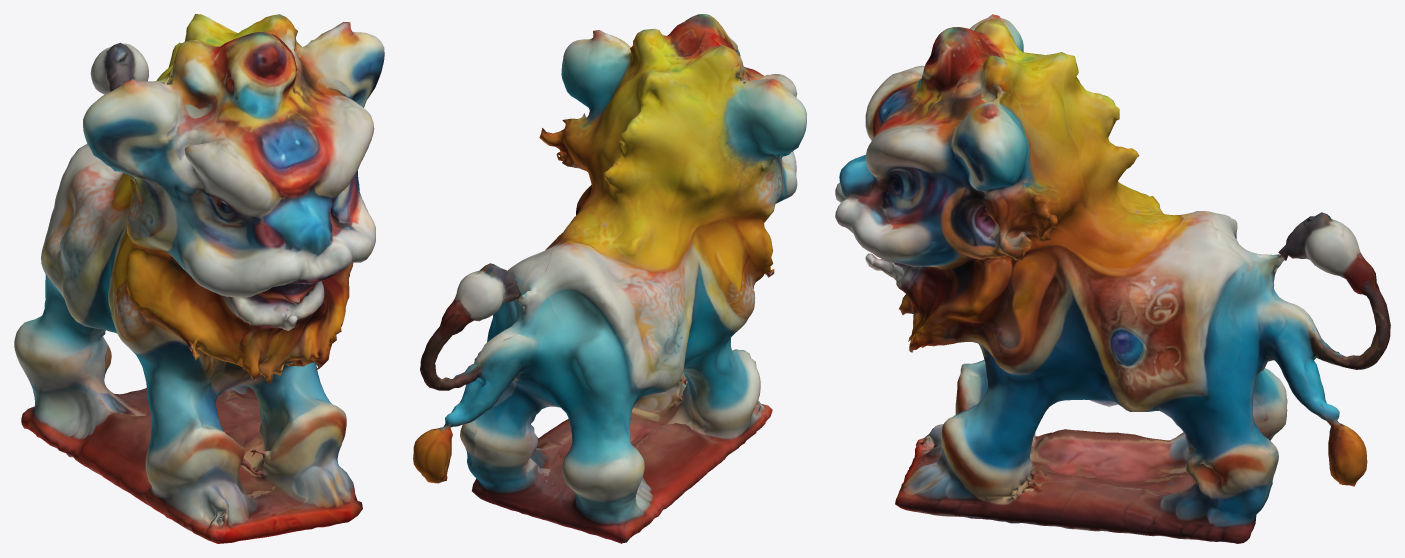
File: Lion2.fbx
3 views of the same model, side by side, from view 1: azimuth 30°, elevation 25°; view 2: azimuth 150°, elevation 25°; view 3: azimuth 270°, elevation 25° (orthographic). The views are drawn at different scales.
Visible parts, largest first — view 1: Mesh_0; view 2: Mesh_0; view 3: Mesh_0.
Boxes of the visible parts, left/top/right/bottom form: Mesh_0: left=14, top=14, right=384, bottom=543; Mesh_0: left=413, top=14, right=806, bottom=543; Mesh_0: left=835, top=14, right=1390, bottom=543.
Size of the model in its own units: 68.43 by 113 by 120.
1 material, 1 textured.
